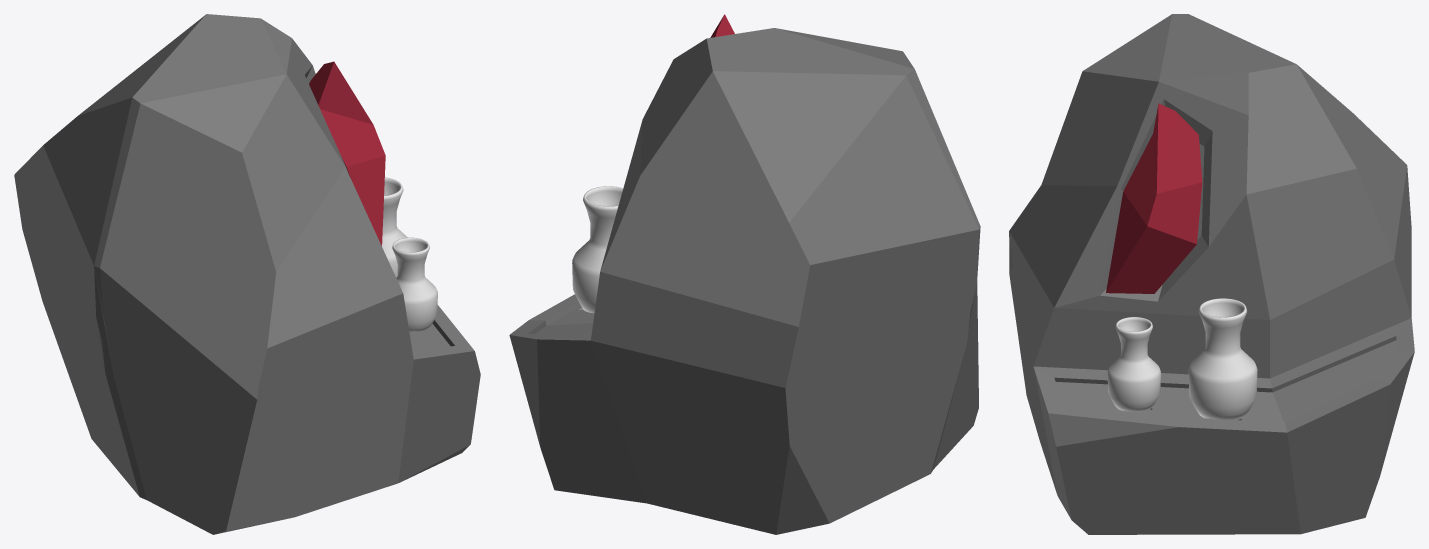
File: banish_stone.glb
3 views of the same model, side by side, from view 1: azimuth 30°, elevation 25°; view 2: azimuth 150°, elevation 25°; view 3: azimuth 270°, elevation 25° (orthographic). The views are drawn at different scales.
Visible parts, largest first — view 1: Base, Gem, Vase.001, Vase; view 2: Base, Vase; view 3: Base, Gem, Vase, Vase.001.
Part boxes in pixels (<box>): Base: <box>14,14,480,534</box>; Gem: <box>309,61,385,245</box>; Vase.001: <box>392,237,437,331</box>; Vase: <box>382,177,407,277</box>; Base: <box>509,28,980,534</box>; Vase: <box>572,186,623,313</box>; Base: <box>1009,14,1414,534</box>; Gem: <box>1106,103,1202,293</box>; Vase: <box>1188,298,1257,419</box>; Vase.001: <box>1107,317,1160,412</box>.
Bounding box in the file's own units: 2.58 × 2.77 × 2.52.
